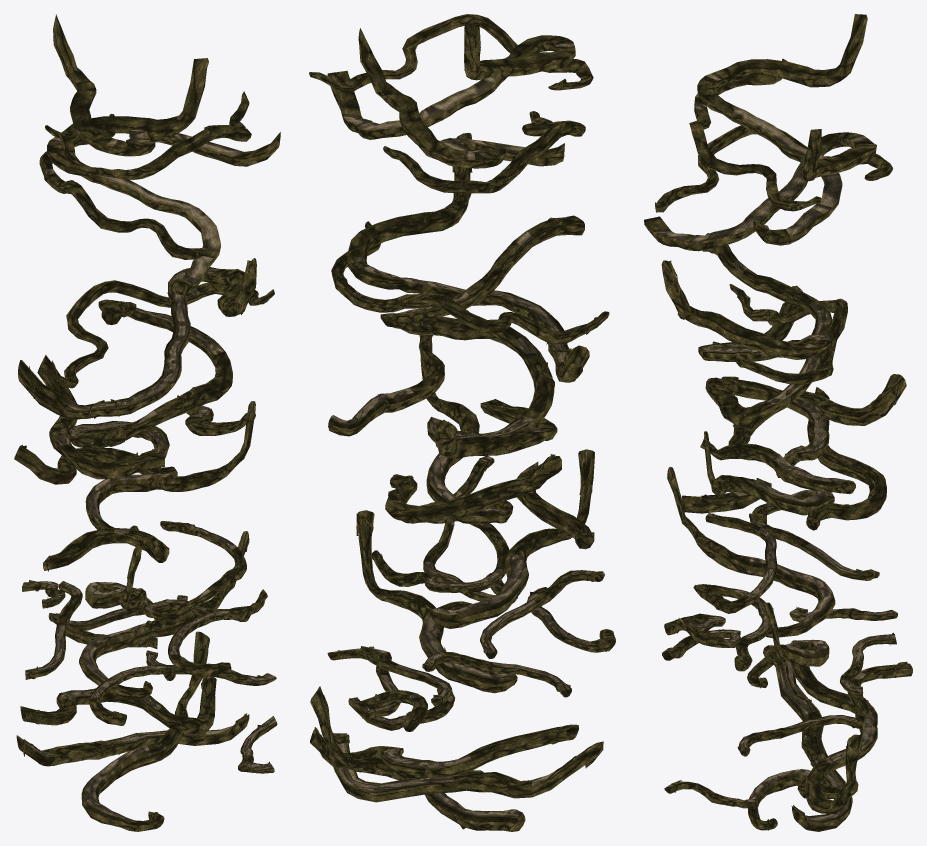
3 views of the same model, side by side, from view 1: azimuth 30°, elevation 25°; view 2: azimuth 150°, elevation 25°; view 3: azimuth 270°, elevation 25° (orthographic). The views are drawn at different scales.
Parts seen in each view (by area): view 1: mesh1, mesh0, mesh3, mesh2; view 2: mesh1, mesh3, mesh0, mesh2; view 3: mesh1, mesh0, mesh3, mesh2.
Part boxes in pixels (<box>): mesh1: <box>14,14,280,831</box>; mesh0: <box>18,130,276,822</box>; mesh3: <box>17,114,276,825</box>; mesh2: <box>22,259,269,816</box>; mesh1: <box>309,14,615,831</box>; mesh3: <box>328,36,601,822</box>; mesh0: <box>330,41,602,817</box>; mesh2: <box>314,135,609,785</box>; mesh1: <box>644,14,912,831</box>; mesh0: <box>654,72,895,821</box>; mesh3: <box>649,58,896,822</box>; mesh2: <box>669,247,907,830</box>.
Size of the model in its own units: 41.56 by 122 by 37.55.
